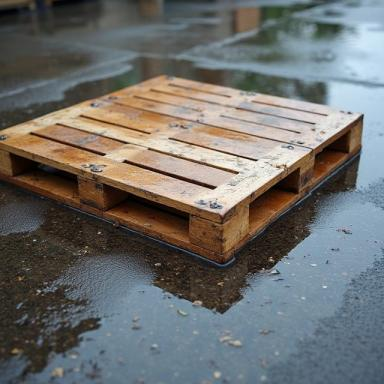pallet: (0, 74, 364, 264)
